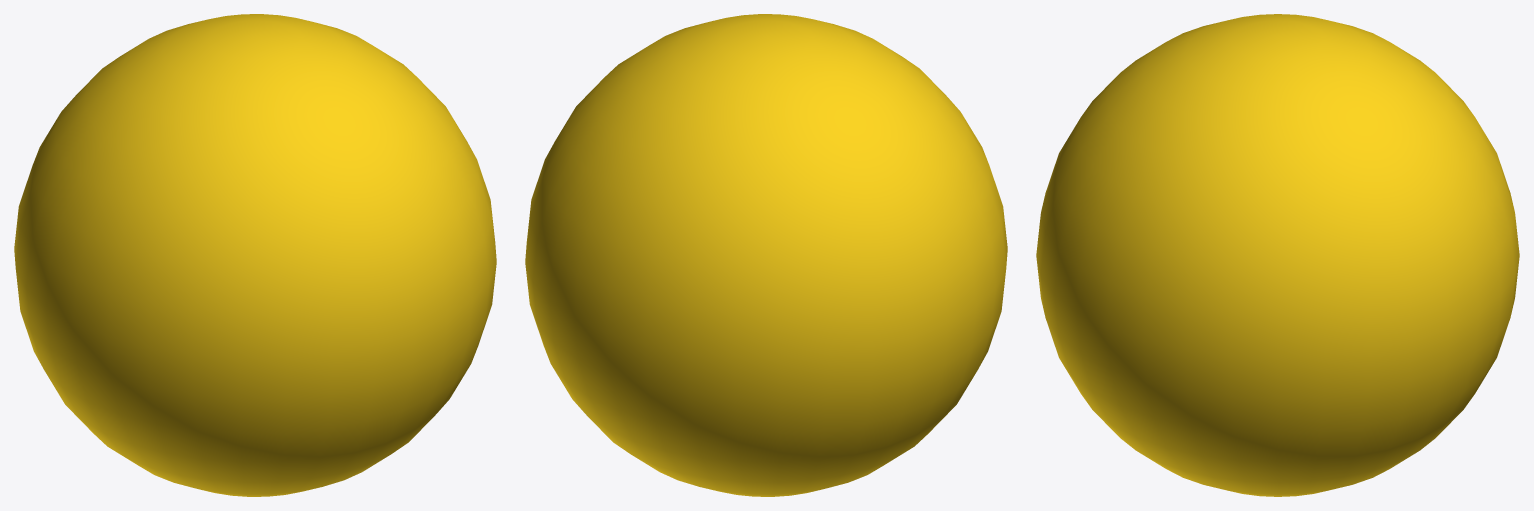
Rendered from explosion.FBX.
3 renders of one model, left to right at view 1: azimuth 30°, elevation 25°; view 2: azimuth 150°, elevation 25°; view 3: azimuth 270°, elevation 25°, orthographic.
Visible parts, largest first — view 1: Sphere003; view 2: Sphere003; view 3: Sphere003.
Boxes of the visible parts, <box> form: Sphere003: <box>14,14,496,496</box>; Sphere003: <box>525,14,1007,496</box>; Sphere003: <box>1036,14,1519,496</box>.
Size of the model in its own units: 70 by 70 by 70.
